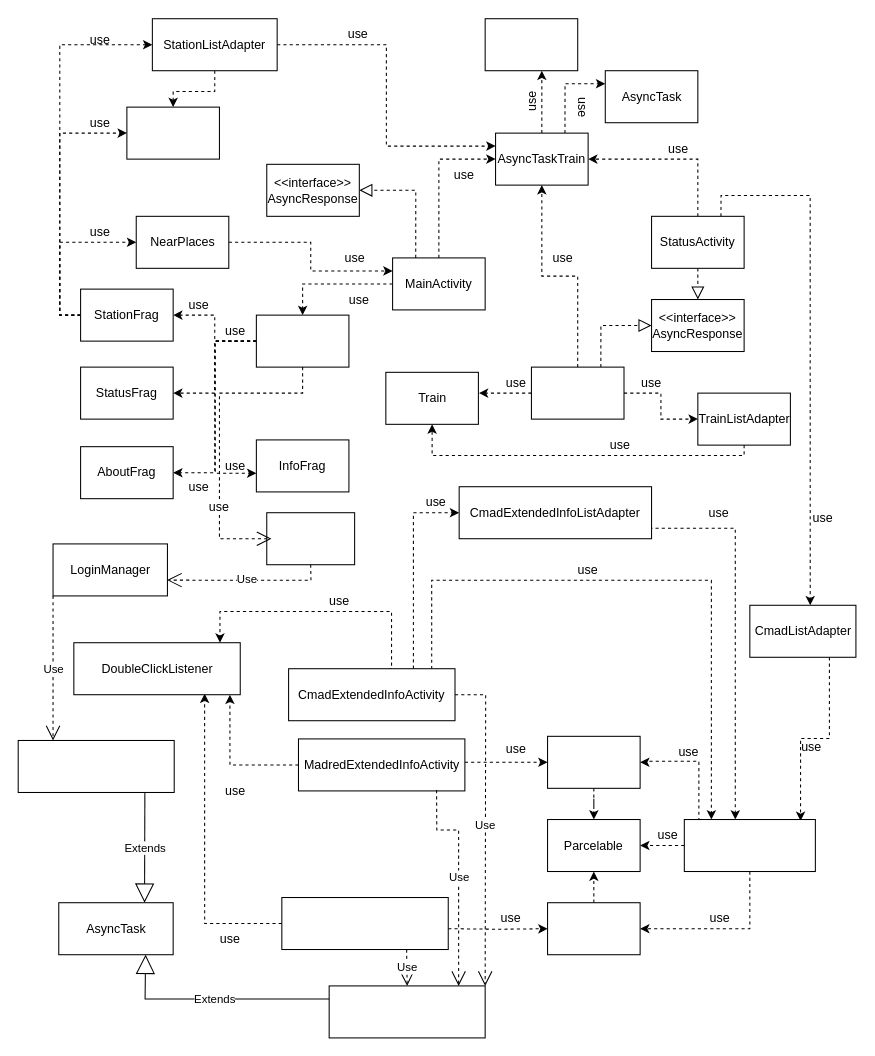
This 875x1056 diagram has some shape labels left out. The centre of each missing label's shape, as x and y in pixels:
"AsyncTaskCommander" belongs at (x=406, y=1011).
"AsynTaskVerifyCredential" belongs at (x=95, y=765).
"Cmad" belongs at (x=749, y=845).
"InfoActivity" belongs at (x=577, y=392).
"LoginFrag" belongs at (x=310, y=538).
"Madill" belongs at (x=593, y=928).
"MadillExtendedInfoActivity" belongs at (x=364, y=923).
"Madred" belongs at (x=593, y=761).
"PagerAdapter" belongs at (x=302, y=340).
"Parser" belongs at (x=531, y=44).
"Station" belongs at (x=172, y=132).
